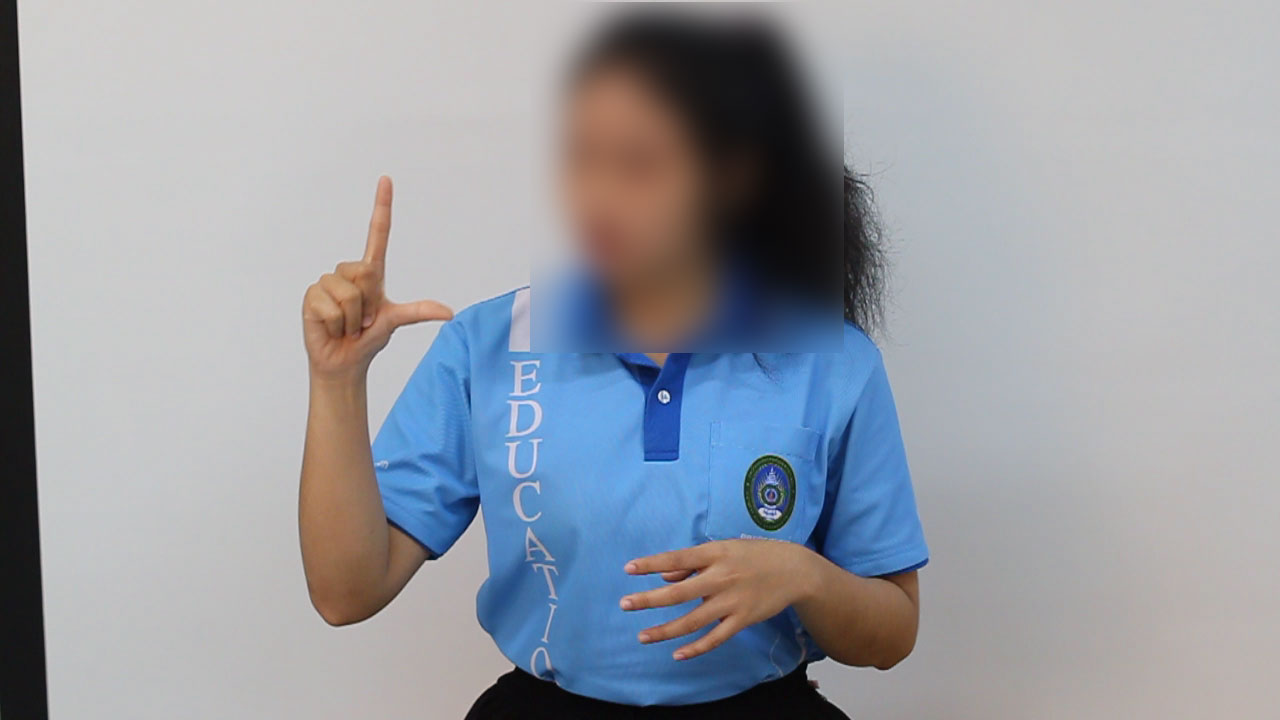lor: (285, 173, 459, 374)
